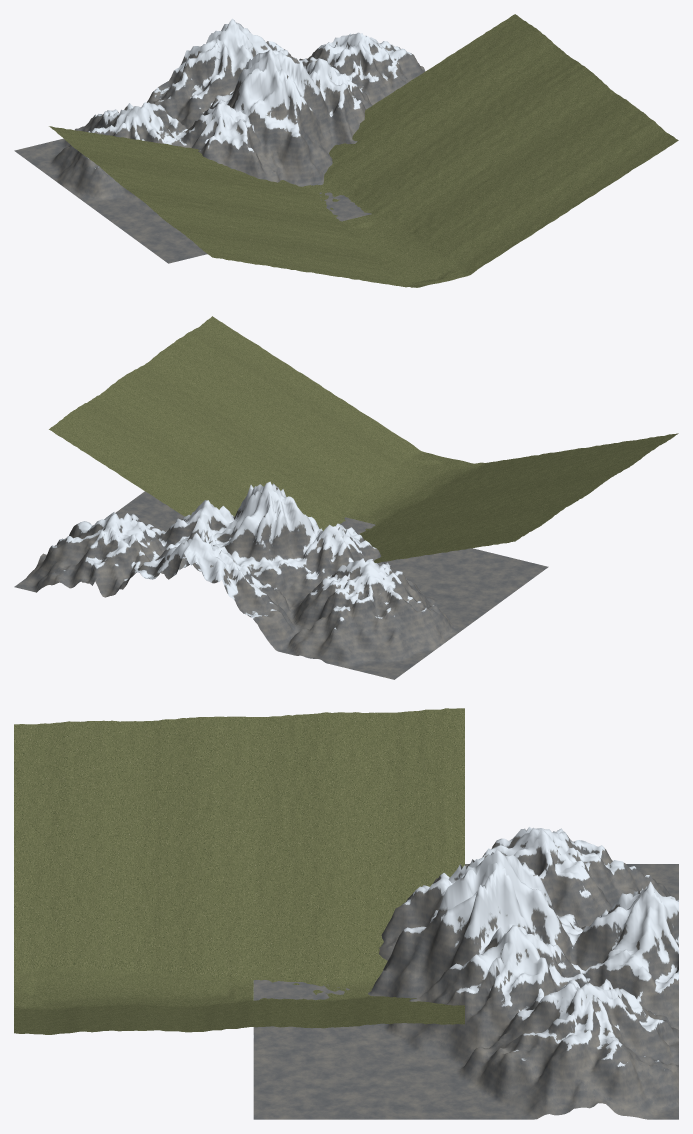
The model's file is terrain.glb.
3 views of the same model, one above another, from view 1: azimuth 30°, elevation 25°; view 2: azimuth 150°, elevation 25°; view 3: azimuth 270°, elevation 25° (orthographic). The views are drawn at different scales.
Parts seen in each view (by area): view 1: Alpine_Ground, Alpine_Massif; view 2: Alpine_Ground, Alpine_Massif; view 3: Alpine_Ground, Alpine_Massif.
Boxes of the visible parts, left/top/right/bottom form: Alpine_Ground: left=49, top=14, right=678, bottom=287; Alpine_Massif: left=14, top=18, right=425, bottom=263; Alpine_Ground: left=49, top=316, right=678, bottom=562; Alpine_Massif: left=14, top=481, right=548, bottom=679; Alpine_Ground: left=14, top=708, right=464, bottom=1034; Alpine_Massif: left=253, top=827, right=678, bottom=1119.
Size of the model in its own units: 1300 by 283 by 1165.
2 materials, 2 textured.
